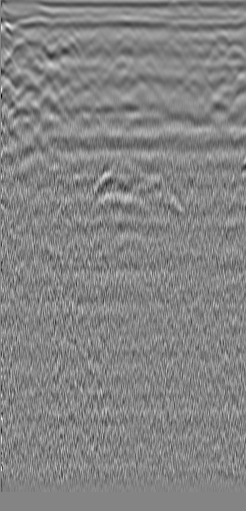가스: (235, 154, 246, 178)
상수: (7, 19, 27, 39)
우수: (132, 30, 152, 50)
